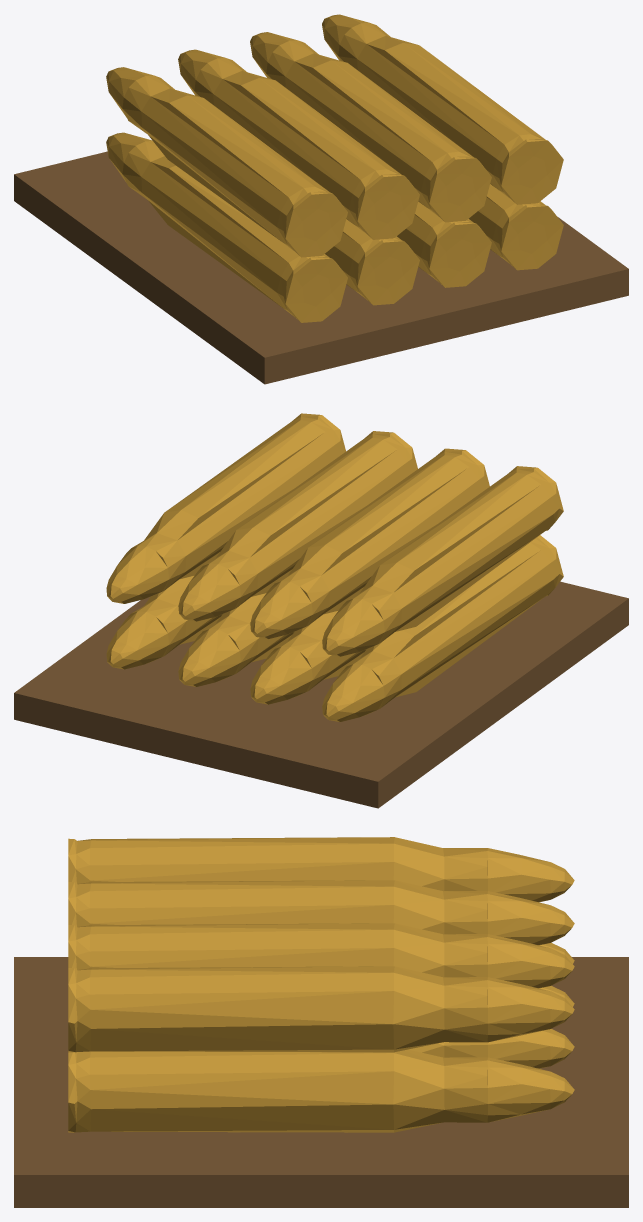
The model's file is municao_762.glb.
3 views of the same model, one above another, from view 1: azimuth 30°, elevation 25°; view 2: azimuth 150°, elevation 25°; view 3: azimuth 270°, elevation 25° (orthographic). The views are drawn at different scales.
Parts seen in each view (by area): view 1: Cube, 308_WIM_Bullet.004, 308_WIM_Bullet.005, 308_WIM_Bullet.007, 308_WIM_Bullet.006, 308_WIM_Bullet, 308_WIM_Bullet.003, 308_WIM_Bullet.002, 308_WIM_Bullet.001; view 2: Cube, 308_WIM_Bullet.004, 308_WIM_Bullet.005, 308_WIM_Bullet.006, 308_WIM_Bullet.007, 308_WIM_Bullet, 308_WIM_Bullet.001, 308_WIM_Bullet.003, 308_WIM_Bullet.002; view 3: Cube, 308_WIM_Bullet.007, 308_WIM_Bullet.003, 308_WIM_Bullet.006, 308_WIM_Bullet.005, 308_WIM_Bullet.004, 308_WIM_Bullet.002.
Part boxes in pixels (x1,y1,x2,y2): Cube: (14,151,628,384); 308_WIM_Bullet.004: (106,67,347,257); 308_WIM_Bullet.005: (178,49,419,239); 308_WIM_Bullet.007: (322,14,563,204); 308_WIM_Bullet.006: (250,32,491,222); 308_WIM_Bullet: (106,132,347,322); 308_WIM_Bullet.003: (469,184,563,270); 308_WIM_Bullet.002: (397,201,491,287); 308_WIM_Bullet.001: (325,219,419,305); Cube: (14,581,628,808); 308_WIM_Bullet.004: (322,466,563,656); 308_WIM_Bullet.005: (250,448,489,638); 308_WIM_Bullet.006: (178,431,417,621); 308_WIM_Bullet.007: (106,413,345,603); 308_WIM_Bullet: (322,535,563,721); 308_WIM_Bullet.001: (250,611,365,704); 308_WIM_Bullet.003: (106,576,222,669); 308_WIM_Bullet.002: (178,593,293,686); Cube: (14,957,628,1207); 308_WIM_Bullet.007: (68,966,574,1052); 308_WIM_Bullet.003: (68,1049,574,1132); 308_WIM_Bullet.006: (68,923,574,988); 308_WIM_Bullet.005: (68,880,574,945); 308_WIM_Bullet.004: (68,837,574,902); 308_WIM_Bullet.002: (408,1029,574,1068).
Size of the model in its own units: 0.057 by 0.0235 by 0.068.
